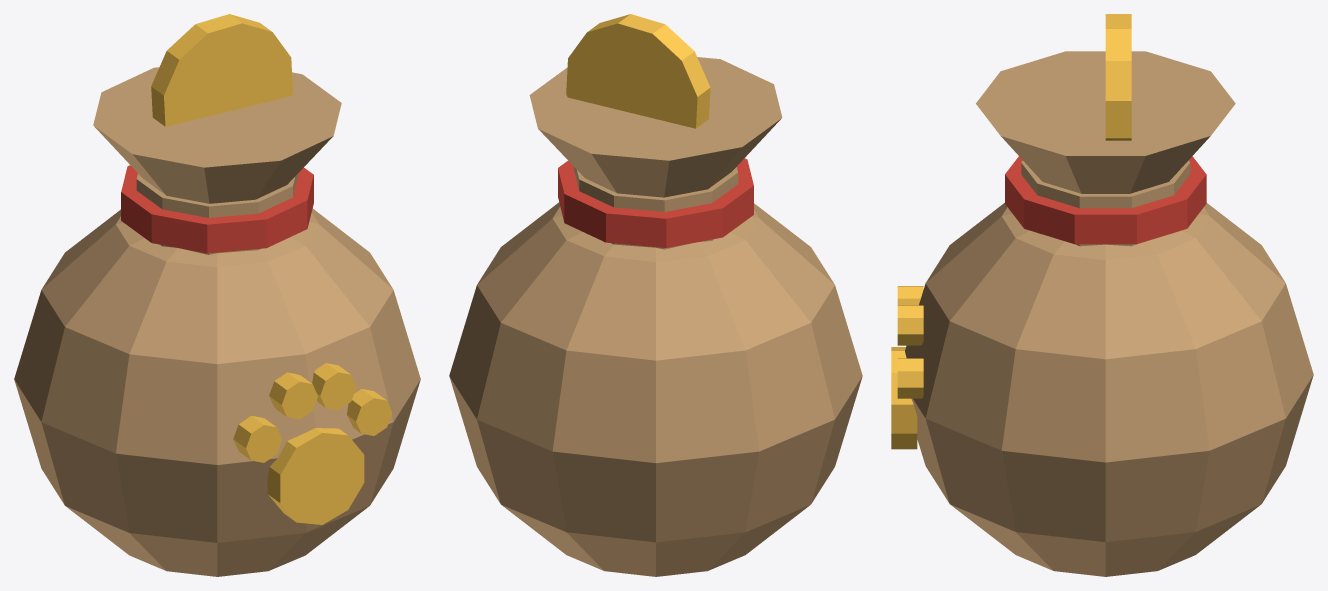
The model's file is CatCafe_Menu_CoinBag.glb.
The picture shows the model from 3 angles, left to right: view 1: azimuth 30°, elevation 25°; view 2: azimuth 150°, elevation 25°; view 3: azimuth 270°, elevation 25°; orthographic projection. The views are drawn at different scales.
Visible parts, largest first — view 1: CatCafe_Menu_CoinBag; view 2: CatCafe_Menu_CoinBag; view 3: CatCafe_Menu_CoinBag.
Boxes of the visible parts, left/top/right/bottom form: CatCafe_Menu_CoinBag: left=14, top=14, right=420, bottom=576; CatCafe_Menu_CoinBag: left=449, top=14, right=862, bottom=576; CatCafe_Menu_CoinBag: left=891, top=14, right=1313, bottom=576.
Size of the model in its own units: 0.64 by 0.9178 by 0.65.
Materials: 1 (1 with a texture image).
